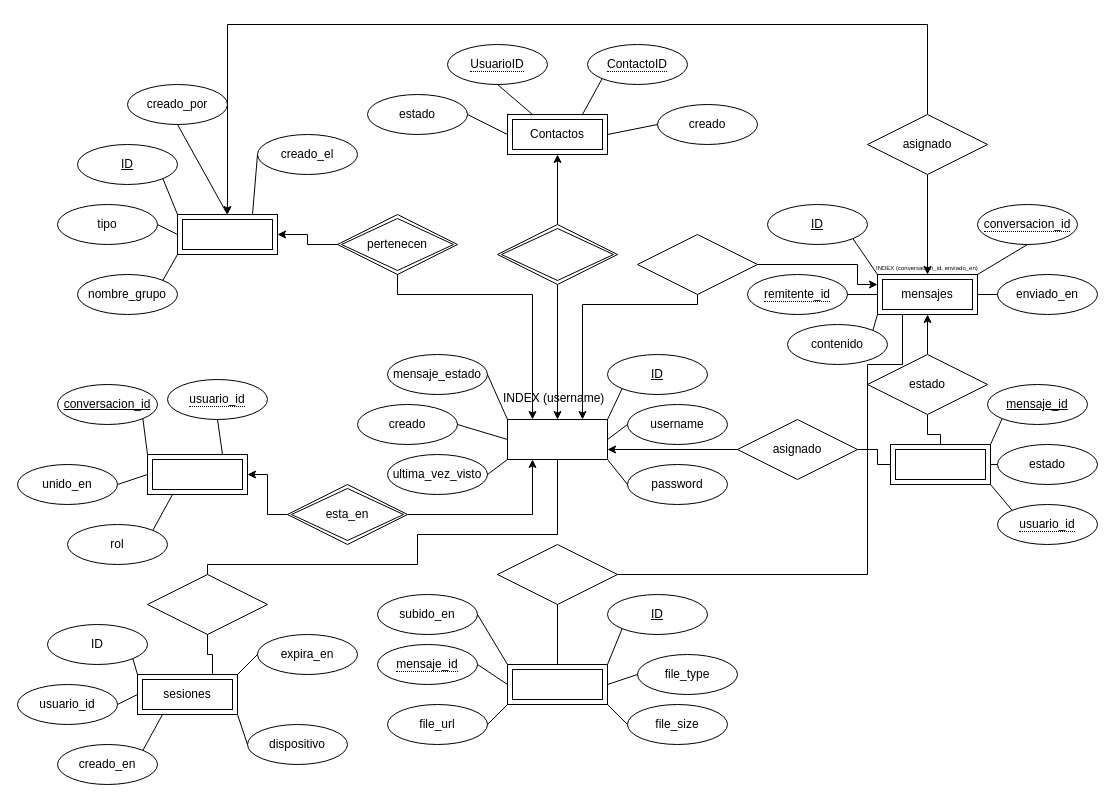
The diagram is 1115 pixels wide and 802 high, and some of its shapes have lost their labels. The shapes that lost their labels are listed below. From the top down, each one's box as (x1, y1, x2, y2) in pixels, then its label:
(176, 214, 278, 254): conversaciones
(496, 224, 618, 284): tiene
(636, 234, 758, 294): enviadoPor
(506, 418, 608, 460): Usuarios
(146, 454, 248, 494): miembros_conversacion
(890, 444, 990, 484): estado_mensaje
(496, 544, 618, 604): mensaje
(146, 574, 268, 634): de
(506, 664, 608, 704): adjuntos
